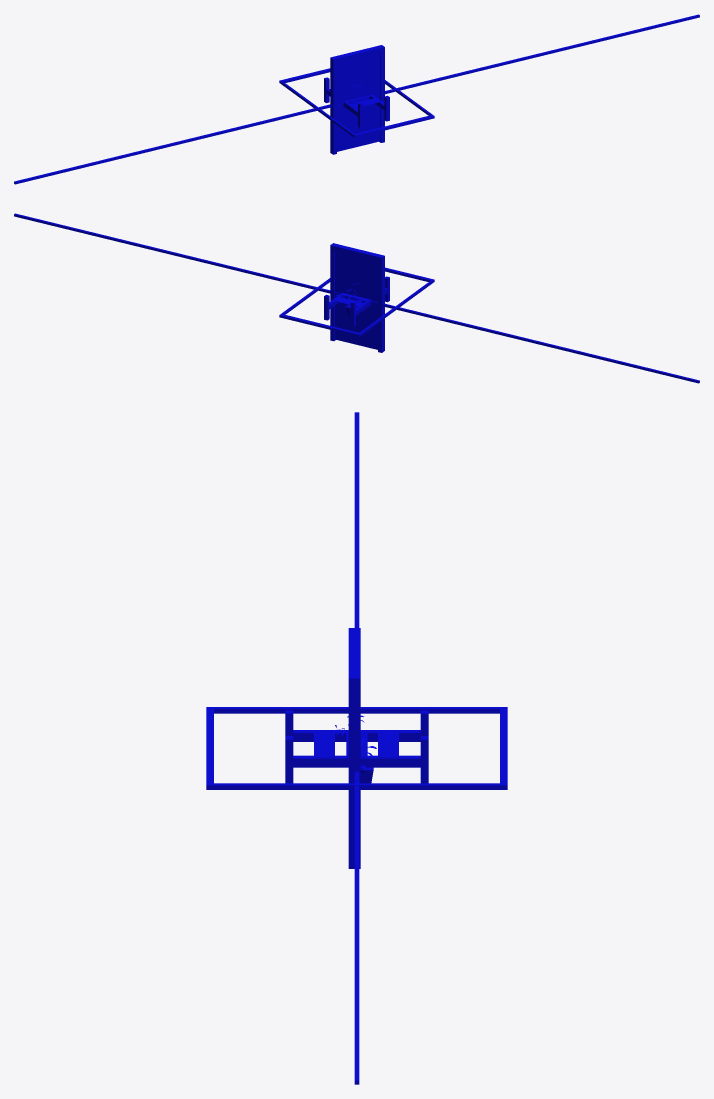
File: prop01.fbx
3 renders of one model, top to bottom at view 1: azimuth 30°, elevation 25°; view 2: azimuth 150°, elevation 25°; view 3: azimuth 270°, elevation 25°, orthographic. The views are drawn at different scales.
Parts seen in each view (by area): view 1: door1, rail, door2, stand_fram1, table2; view 2: door1, rail, door2, stand_fram1, table2; view 3: stand_fram1, table2, rail, door2.
Part boxes in pixels (x1,y1,x2,y2): door1: (337,52,380,151); rail: (14,14,699,184); door2: (330,45,384,154); stand_fram1: (279,68,434,137); table2: (324,77,389,127); door1: (335,250,377,349); rail: (14,213,699,383); door2: (330,243,384,352); stand_fram1: (279,267,434,336); table2: (324,276,389,326); stand_fram1: (206,707,507,789); table2: (285,710,428,783); rail: (354,412,359,1084); door2: (348,628,360,868).
Size of the model in its own units: 1677 by 223 by 319.
